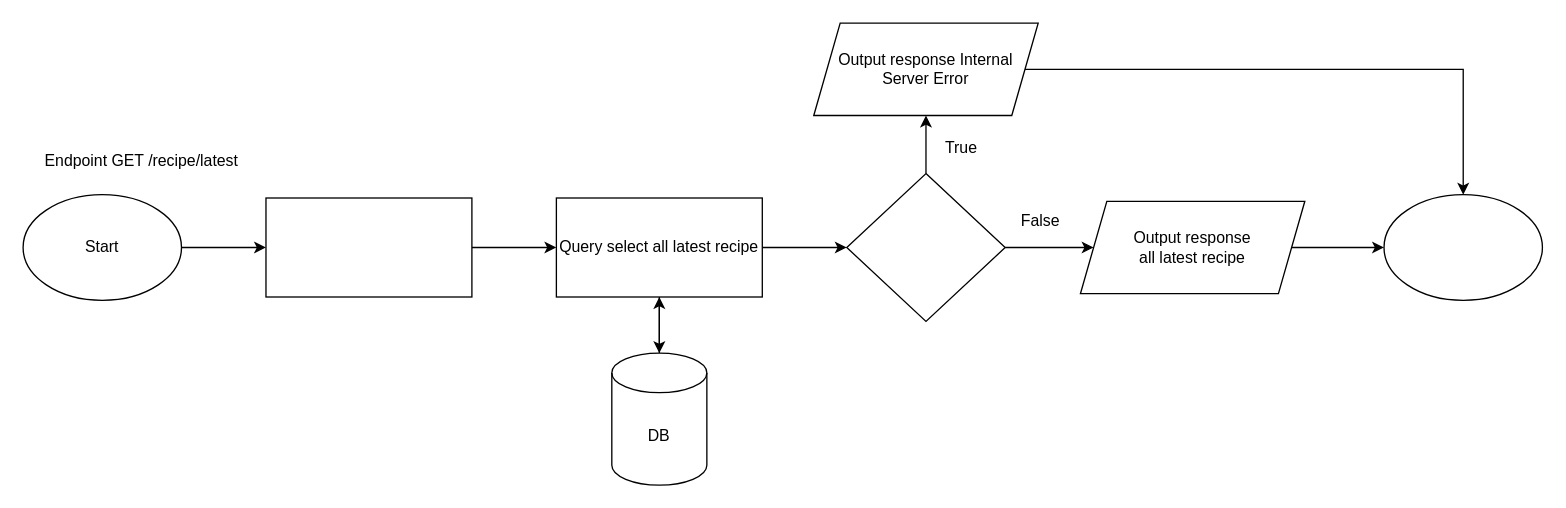
The diagram is 1566 pixels wide and 508 high, and some of its shapes have lost their labels. The centre of each missing label's shape, as x and y in pixels:
End: point (1462, 246)
Melakukan request GET ke endpoint /recipe/latest: point (368, 247)
Terdapat error: point (925, 246)
